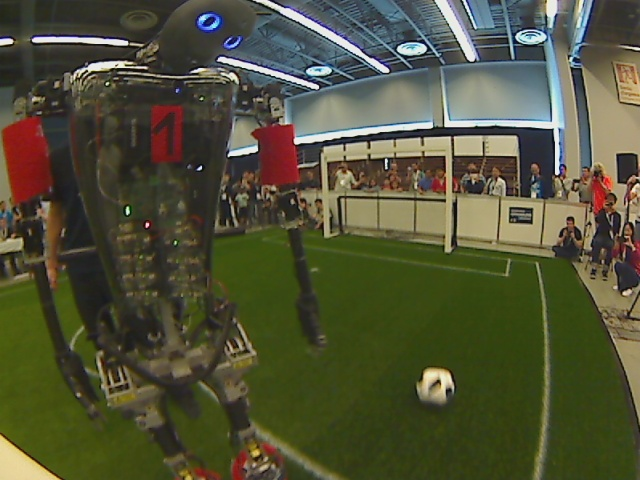ball: (414, 368, 456, 404)
